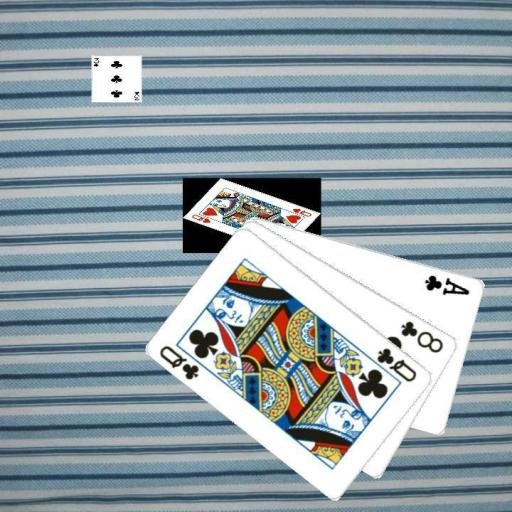card-corner: (373, 344, 419, 384), (156, 342, 202, 382), (398, 317, 445, 355), (422, 271, 472, 296)
